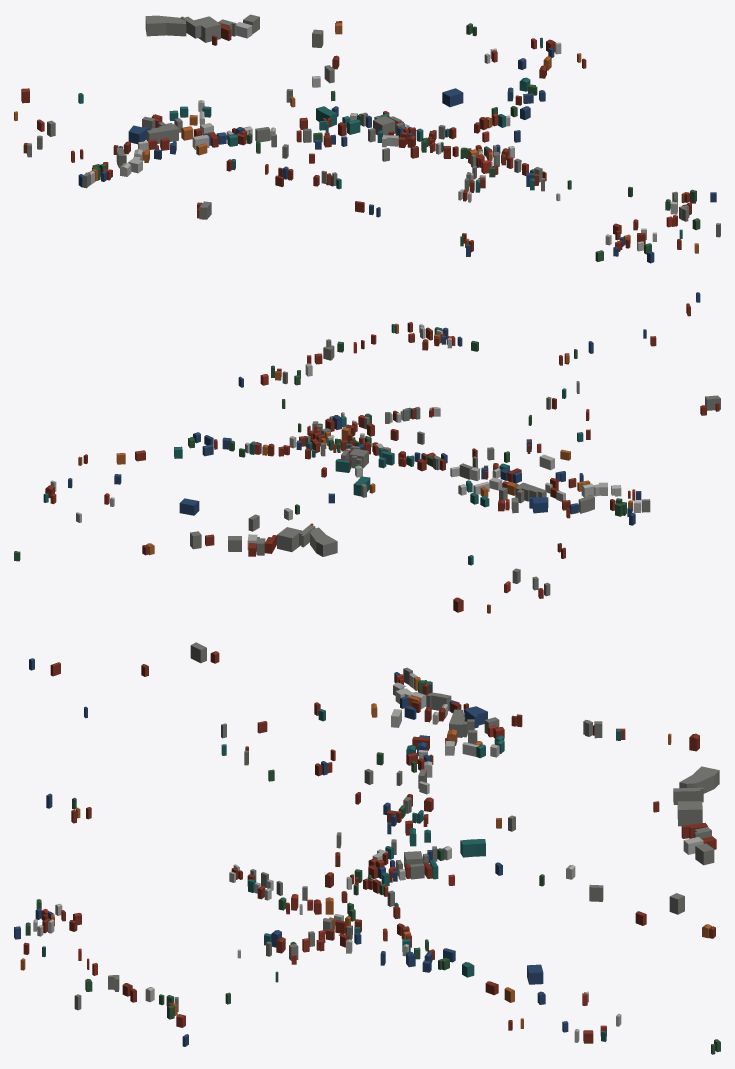
File: near-15-27363-14864.7116d0b8.glb
3 views of the same model, one above another, from view 1: azimuth 30°, elevation 25°; view 2: azimuth 150°, elevation 25°; view 3: azimuth 270°, elevation 25° (orthographic). The views are drawn at different scales.
Bounding box in the file's own units: 1179 × 317 × 1175.
